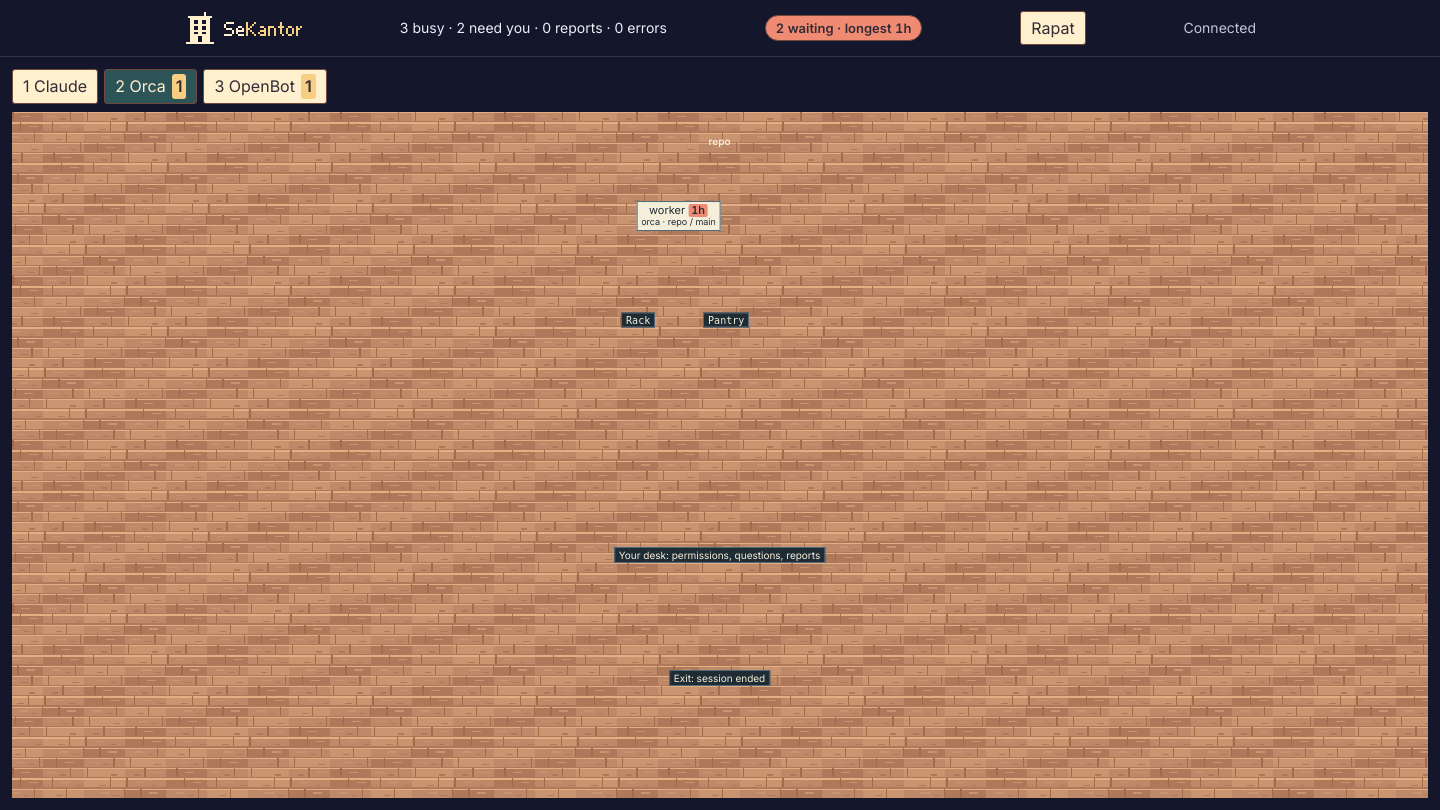
Test: office page › defaults to the first floor with attention, filters sessions, and remembers an explicit choice
The width and height of the screenshot is (1440, 810).
Later steps or results of the test are not shown.
Expected: the button "2 Orca 1" is shown, [104,69,197,104]
Expected: the button "3 OpenBot 1" is shown, [203,69,327,104]
Click the button "1 Claude" at (55, 86), box [12,69,98,104]
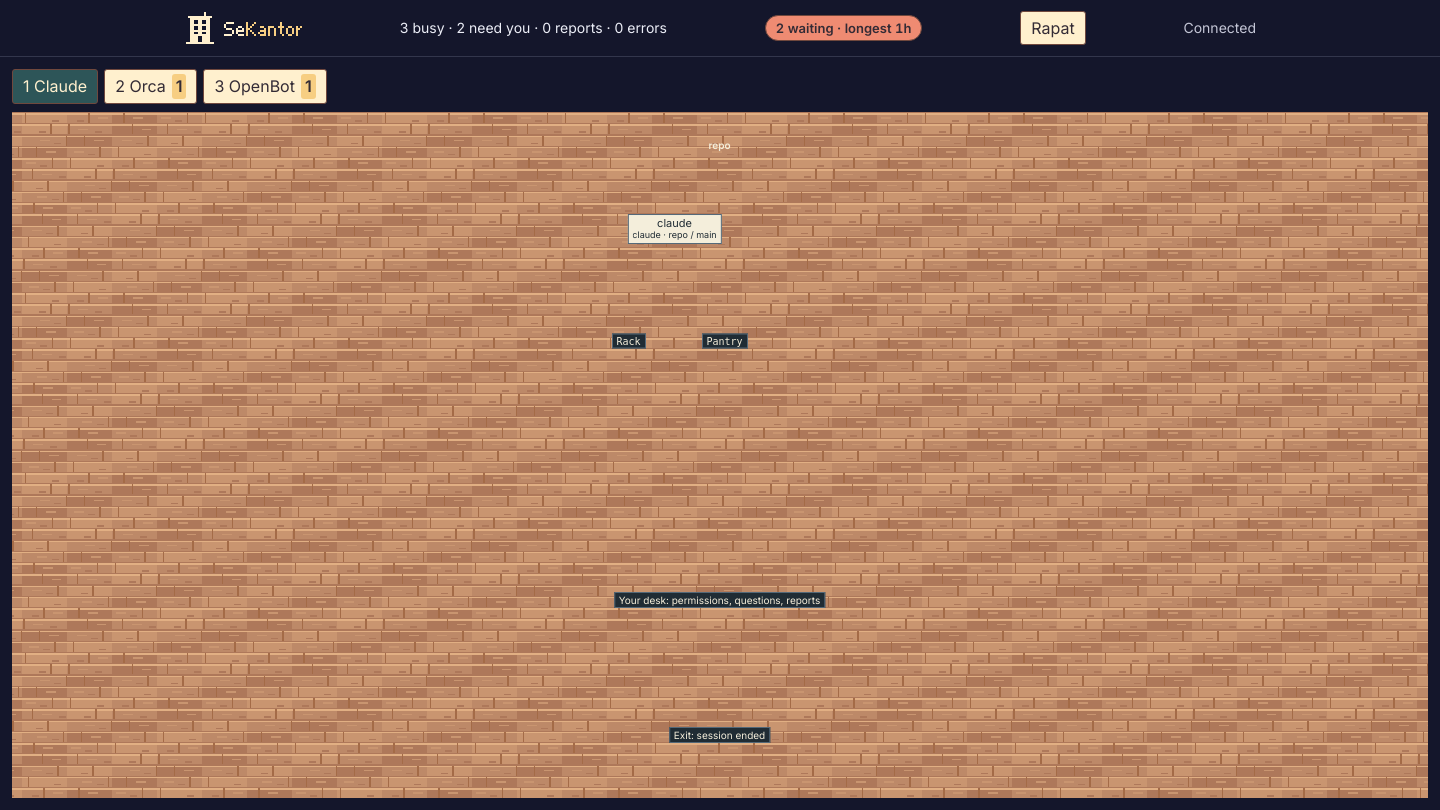
Expected: the button with test id "name-plate" shows "claude", [627,214,722,244]
